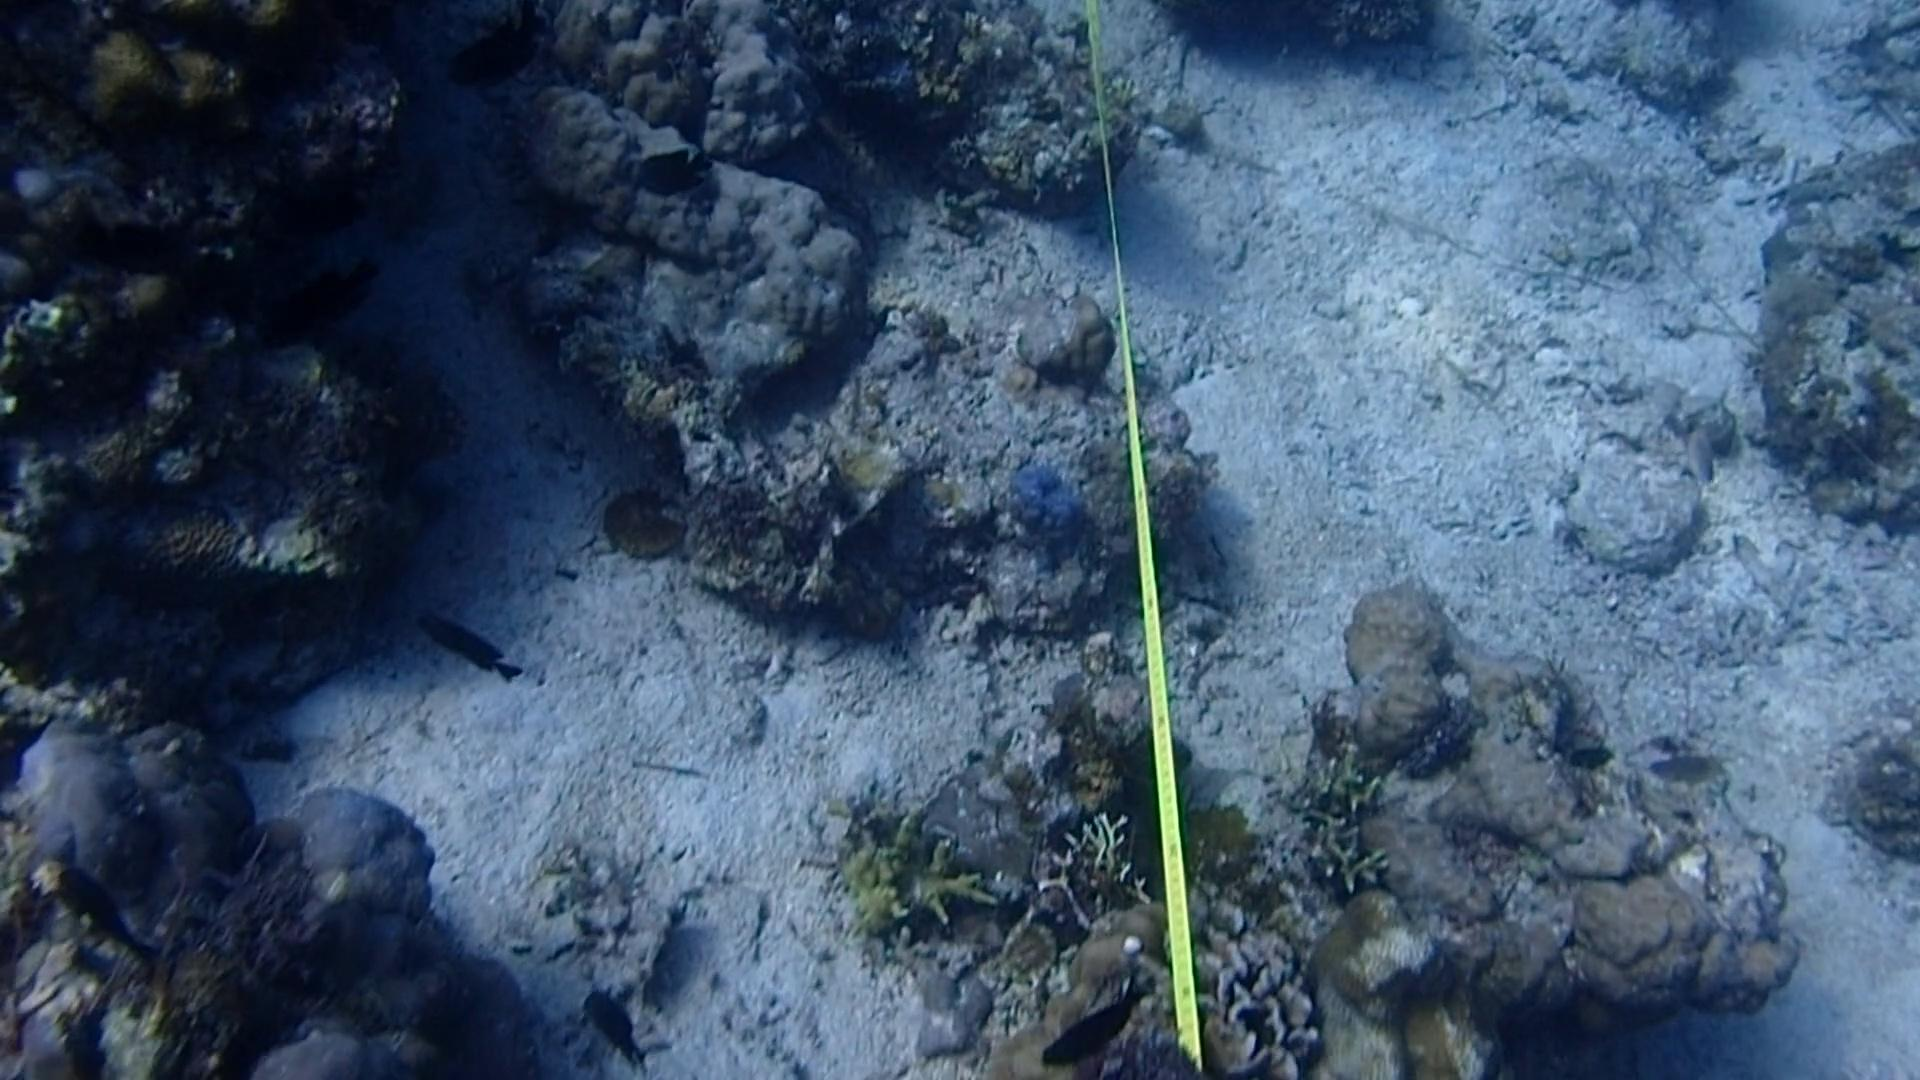Dark Fish: (55, 861, 185, 992), (248, 256, 385, 351), (1046, 978, 1151, 1073), (407, 605, 517, 696), (443, 16, 551, 105), (568, 981, 658, 1073), (628, 150, 735, 210)
Light Fish: (1677, 415, 1729, 491)
